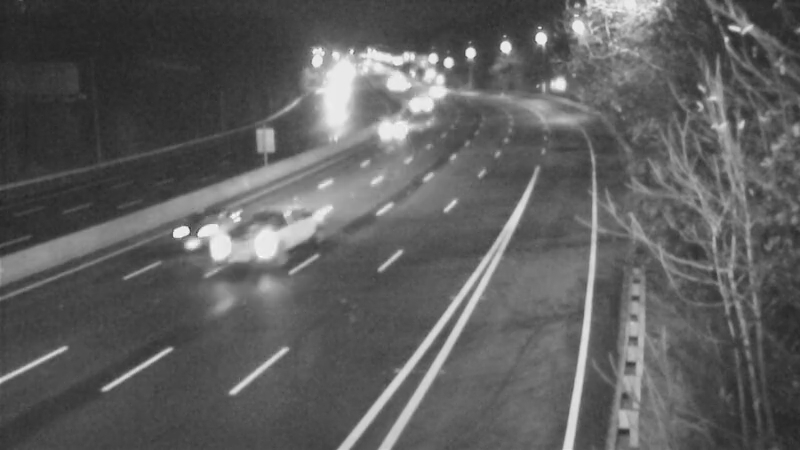vehicle: (220, 201, 300, 281), (154, 197, 234, 277), (383, 62, 433, 112), (408, 65, 458, 115), (394, 77, 444, 127), (368, 102, 418, 152)
